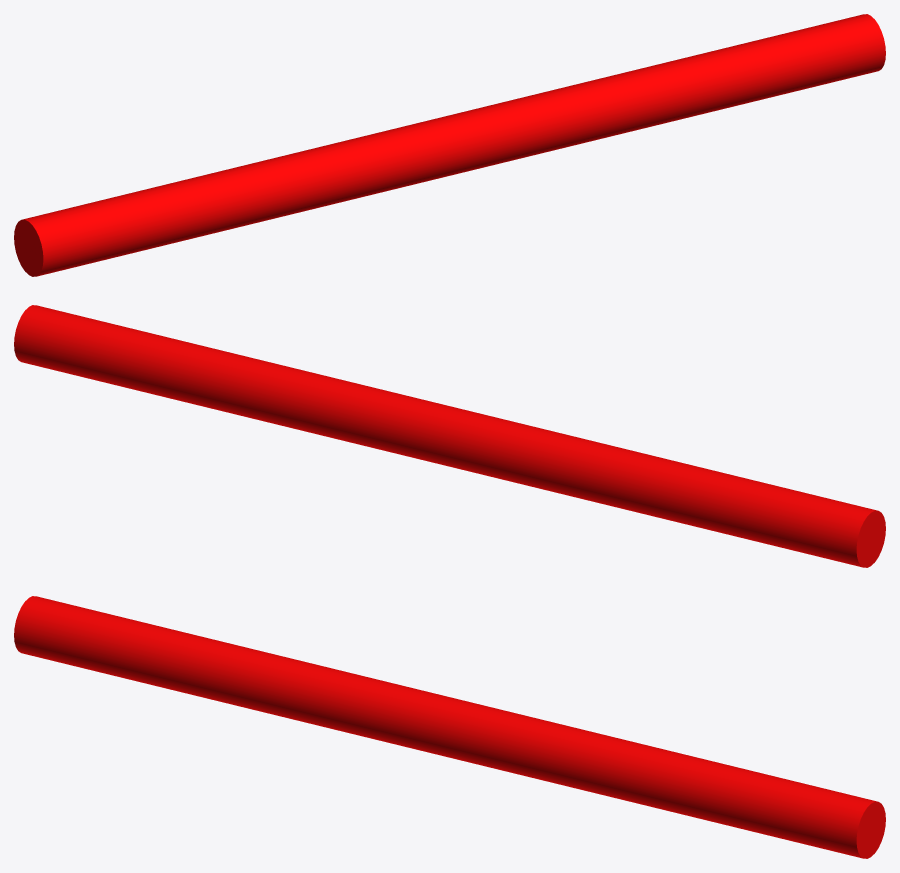
3 renders of one model, top to bottom at view 1: azimuth 30°, elevation 25°; view 2: azimuth 150°, elevation 25°; view 3: azimuth 330°, elevation 25°, orthographic.
Visible parts, largest first — view 1: Cylinder005; view 2: Cylinder005; view 3: Cylinder005.
Part boxes in pixels (x1=…): Cylinder005: x1=14, y1=14, x2=885, y2=276; Cylinder005: x1=14, y1=305, x2=885, y2=567; Cylinder005: x1=14, y1=596, x2=885, y2=858.
Bounding box in the file's own units: 2.48 × 0.1503 × 0.1503.
